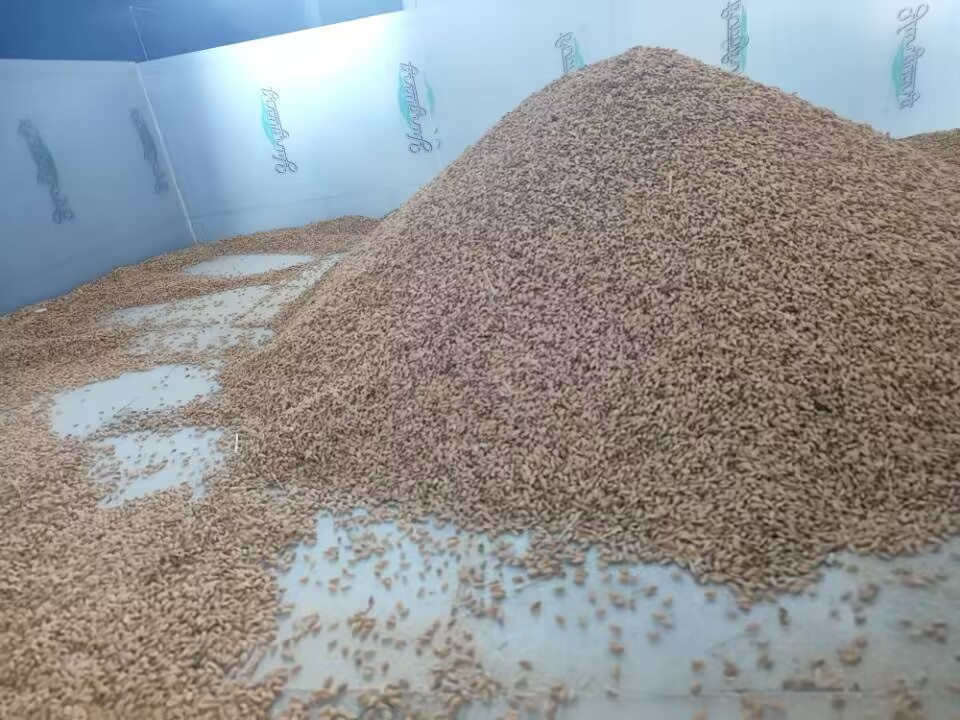Grain: (355, 43, 932, 508)
